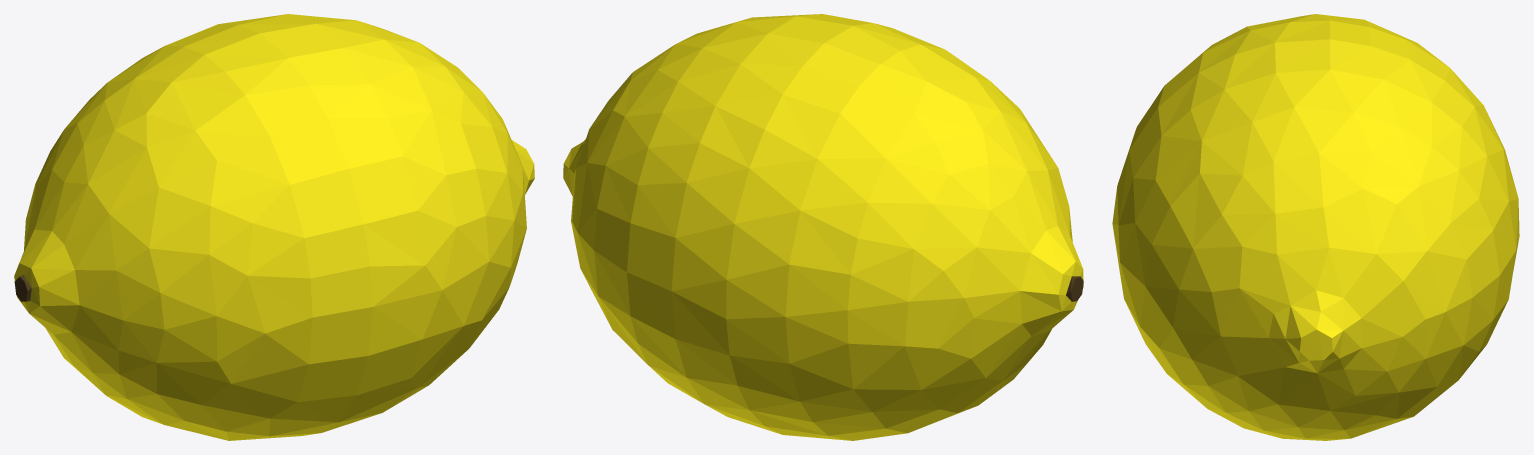
The picture shows the model from 3 angles, left to right: view 1: azimuth 30°, elevation 25°; view 2: azimuth 150°, elevation 25°; view 3: azimuth 270°, elevation 25°; orthographic projection. The views are drawn at different scales.
Parts seen in each view (by area): view 1: 零件7; view 2: 零件7; view 3: 零件7.
Boxes of the visible parts, <box> form: 零件7: <box>14,14,534,440</box>; 零件7: <box>563,14,1083,440</box>; 零件7: <box>1112,14,1519,440</box>.
Size of the model in its own units: 11092 by 8009 by 8009.
